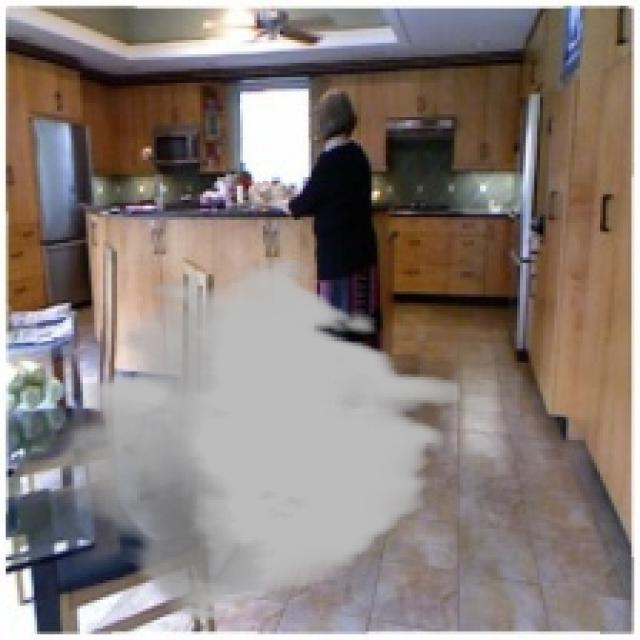smoke: (60, 257, 460, 623)
